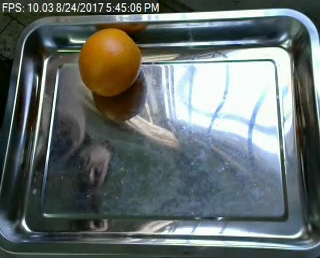Orange: (79, 27, 143, 95)
